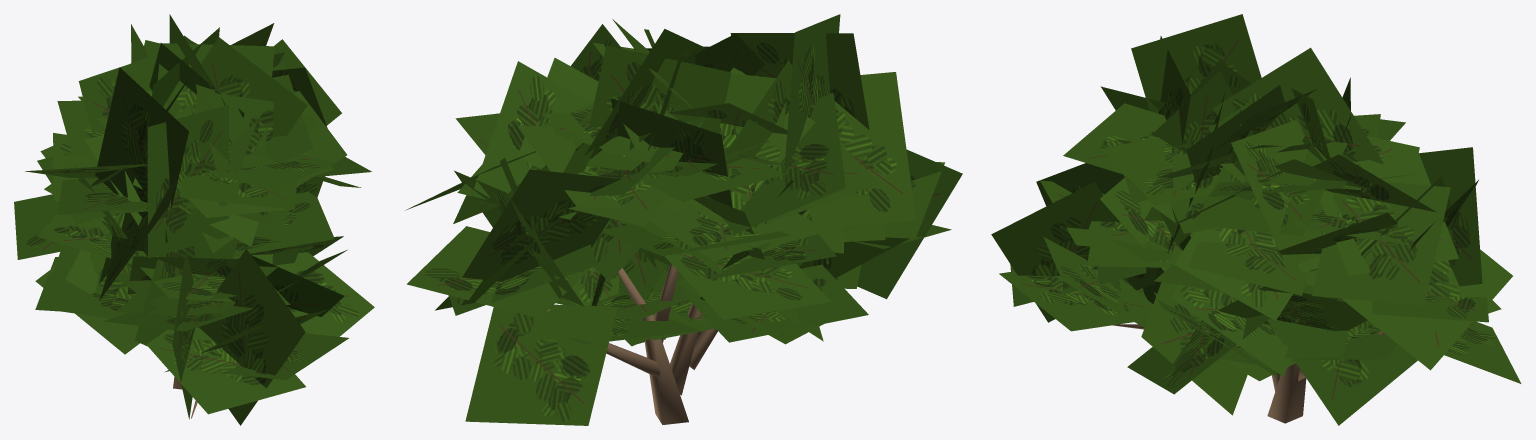
The model's file is mid.glb.
3 renders of one model, left to right at view 1: azimuth 30°, elevation 25°; view 2: azimuth 150°, elevation 25°; view 3: azimuth 270°, elevation 25°, orthographic. The views are drawn at different scales.
Parts seen in each view (by area): view 1: foliage.001; view 2: foliage.001, bark.001; view 3: foliage.001, bark.001.
Part boxes in pixels (x1=…): foliage.001: x1=14, y1=14, x2=374, y2=425; foliage.001: x1=405, y1=14, x2=962, y2=425; bark.001: x1=546, y1=263, x2=717, y2=424; foliage.001: x1=991, y1=14, x2=1521, y2=425; bark.001: x1=1113, y1=324, x2=1385, y2=423.
Size of the model in its own units: 15.73 by 16.04 by 21.09.
Materials: 2 (1 with a texture image).
